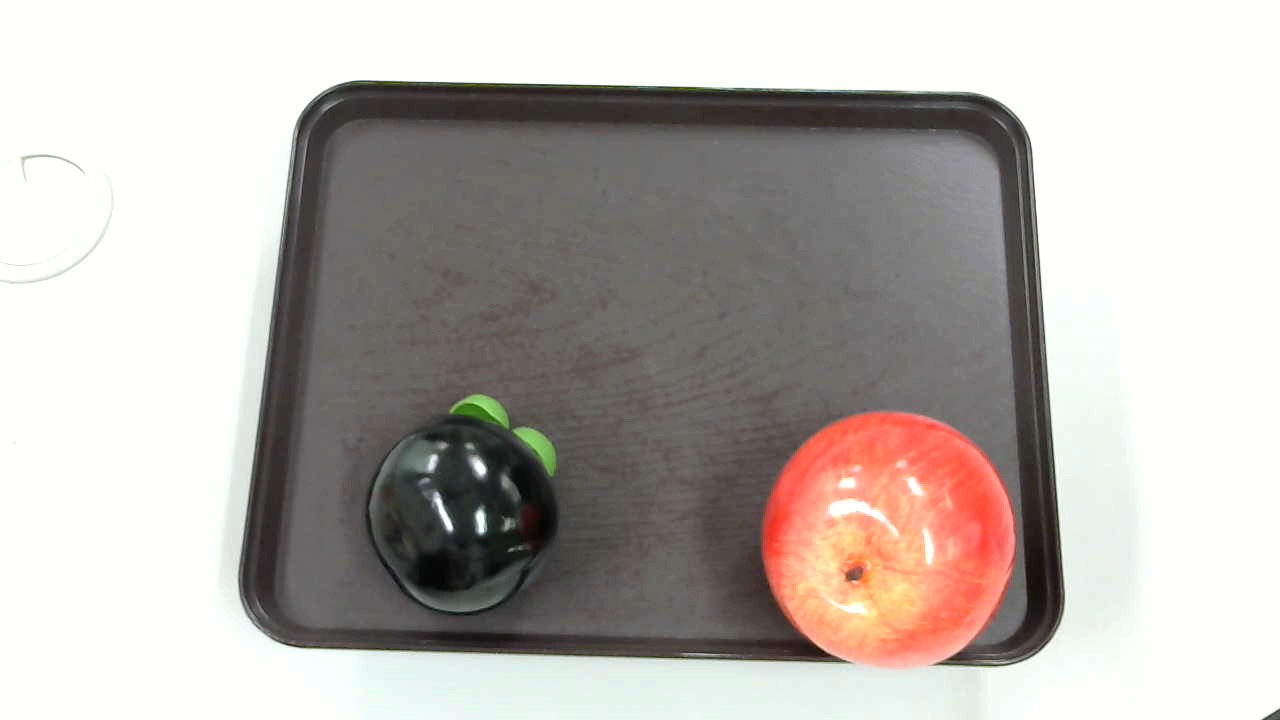mangosteen: (362, 395, 564, 620)
red apple: (752, 408, 1013, 669)
